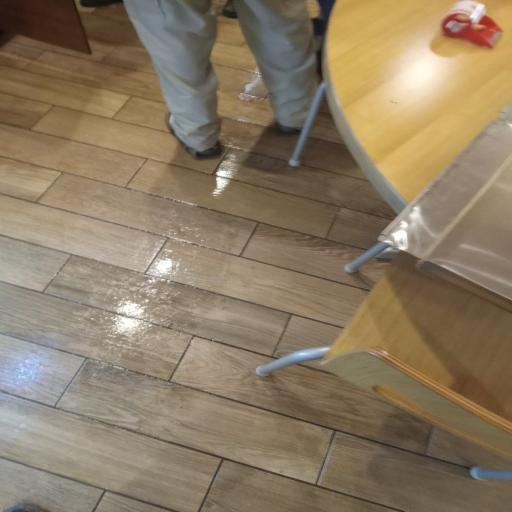bus: (256, 255, 511, 455)
stroller: (289, 0, 511, 213)
wet_floor: (0, 3, 509, 511)
